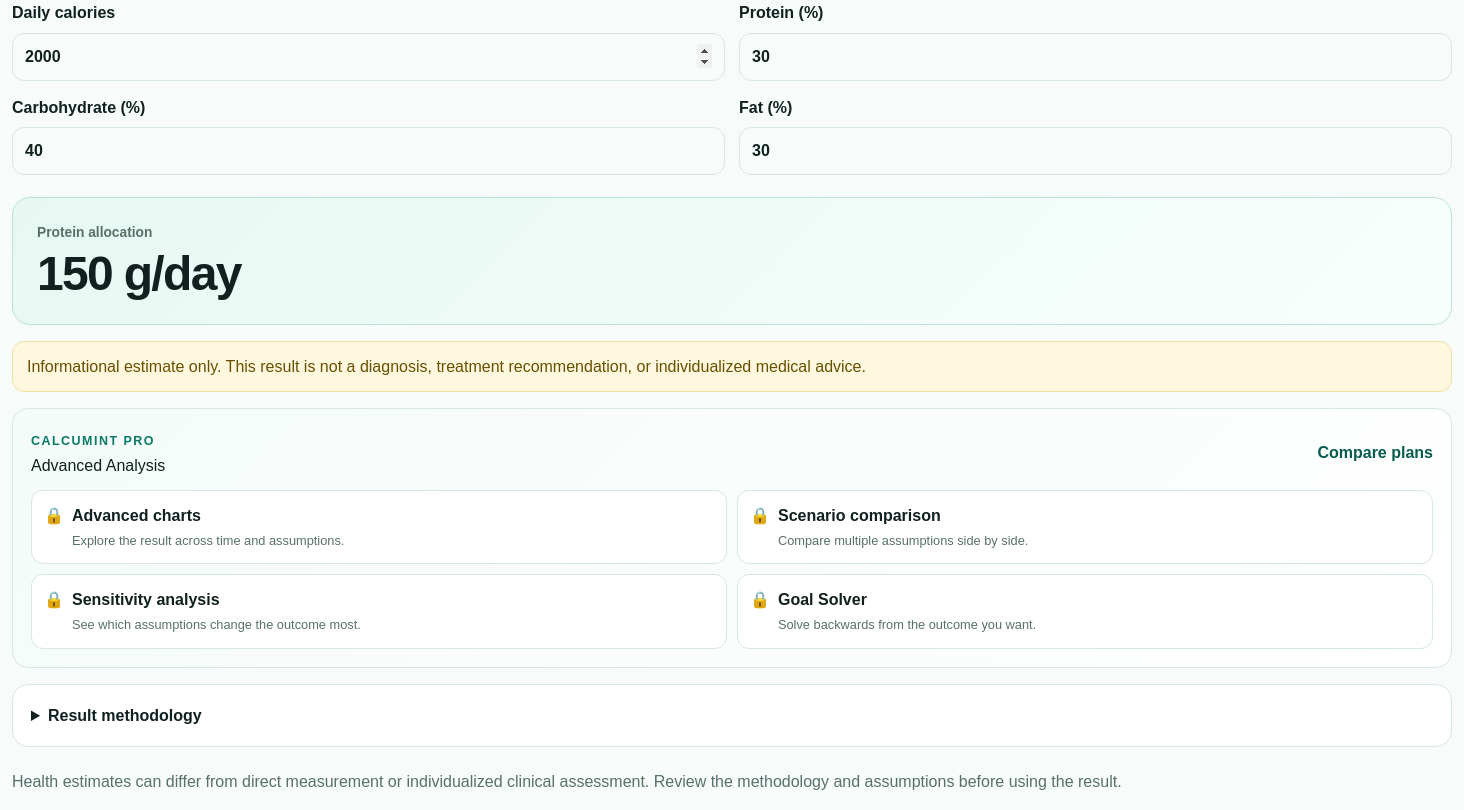
Health batch 1 UI validation › announces a macro allocation that does not total 100 percent
The width and height of the screenshot is (1464, 810).
Replace the text in the number field labelled "Fat (%)" with "20": (1096, 151) x1=739 y1=127 x2=1452 y2=175
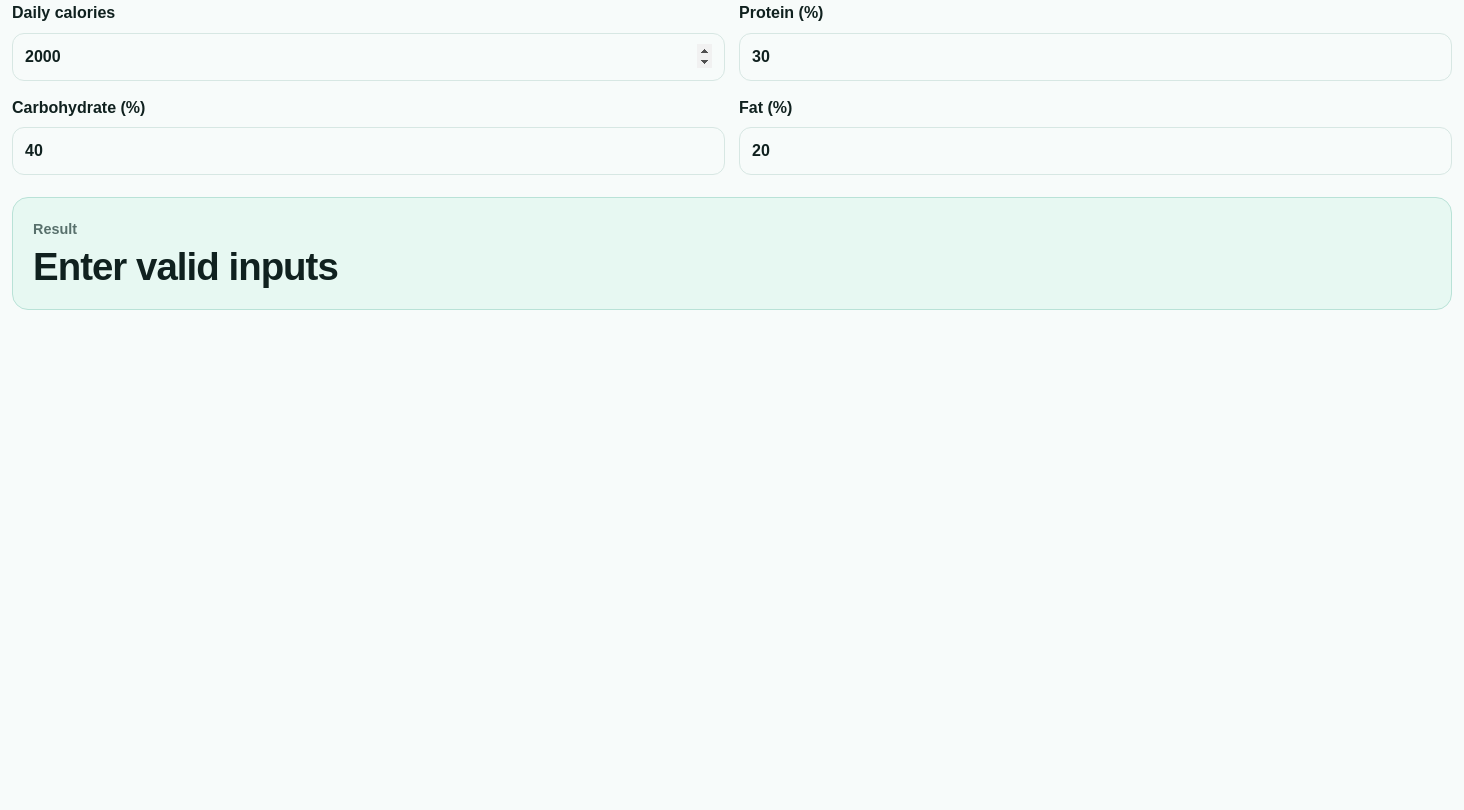
Now the message shows "Enter valid inputs", box x1=33 y1=245 x2=338 y2=288
